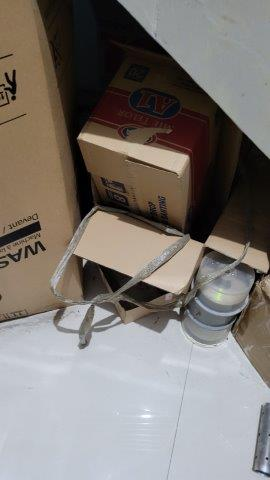kardus: (70, 41, 241, 236), (64, 218, 214, 308)
